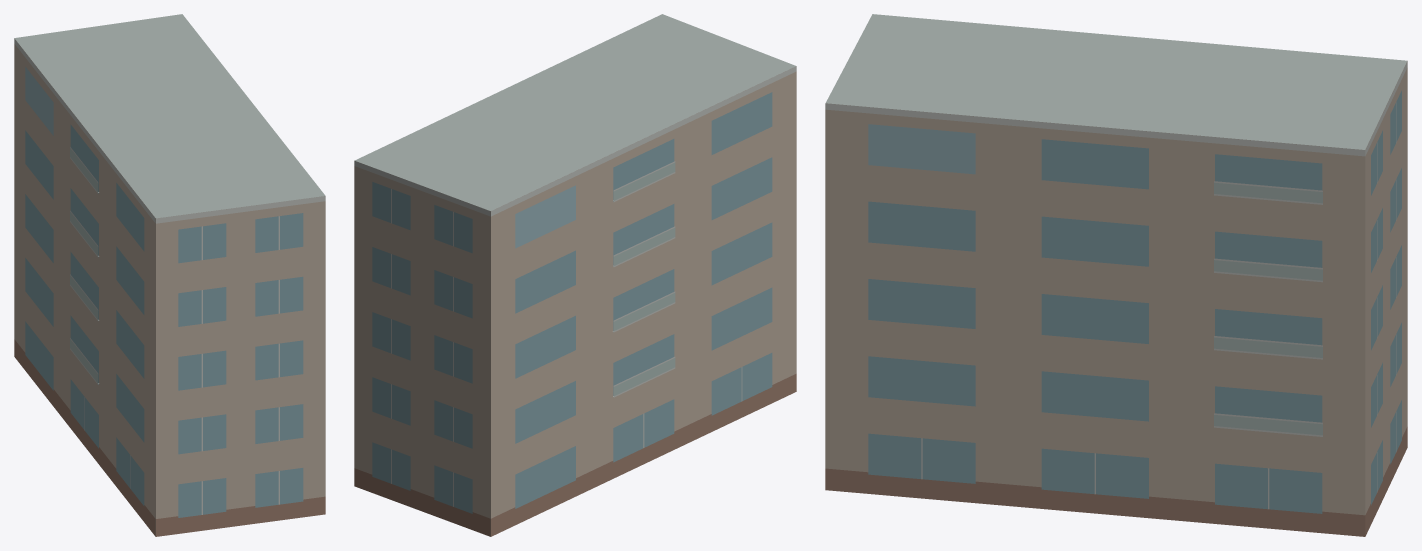
File: survey-upis-32907778.glb
3 renders of one model, left to right at view 1: azimuth 30°, elevation 25°; view 2: azimuth 150°, elevation 25°; view 3: azimuth 270°, elevation 25°, orthographic. The views are drawn at different scales.
Visible parts, largest first — view 1: survey-upis-32907778.tmp; view 2: survey-upis-32907778.tmp; view 3: survey-upis-32907778.tmp.
Part boxes in pixels (x1=…): survey-upis-32907778.tmp: x1=14, y1=14, x2=325, y2=536; survey-upis-32907778.tmp: x1=354, y1=14, x2=796, y2=536; survey-upis-32907778.tmp: x1=825, y1=14, x2=1407, y2=536.
Bounding box in the file's own units: 11.13 × 14.75 × 20.12.
